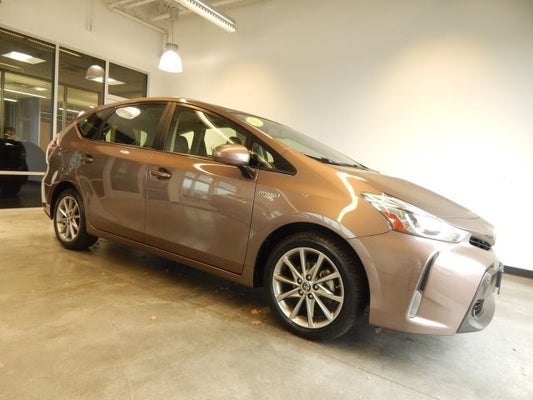Toyota Prius: (41, 98, 503, 341)
